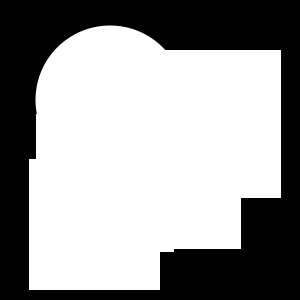circle: (133, 50, 281, 198), (36, 114, 174, 252), (29, 159, 160, 290), (166, 174, 241, 249)
rectangle: (35, 25, 184, 174)
